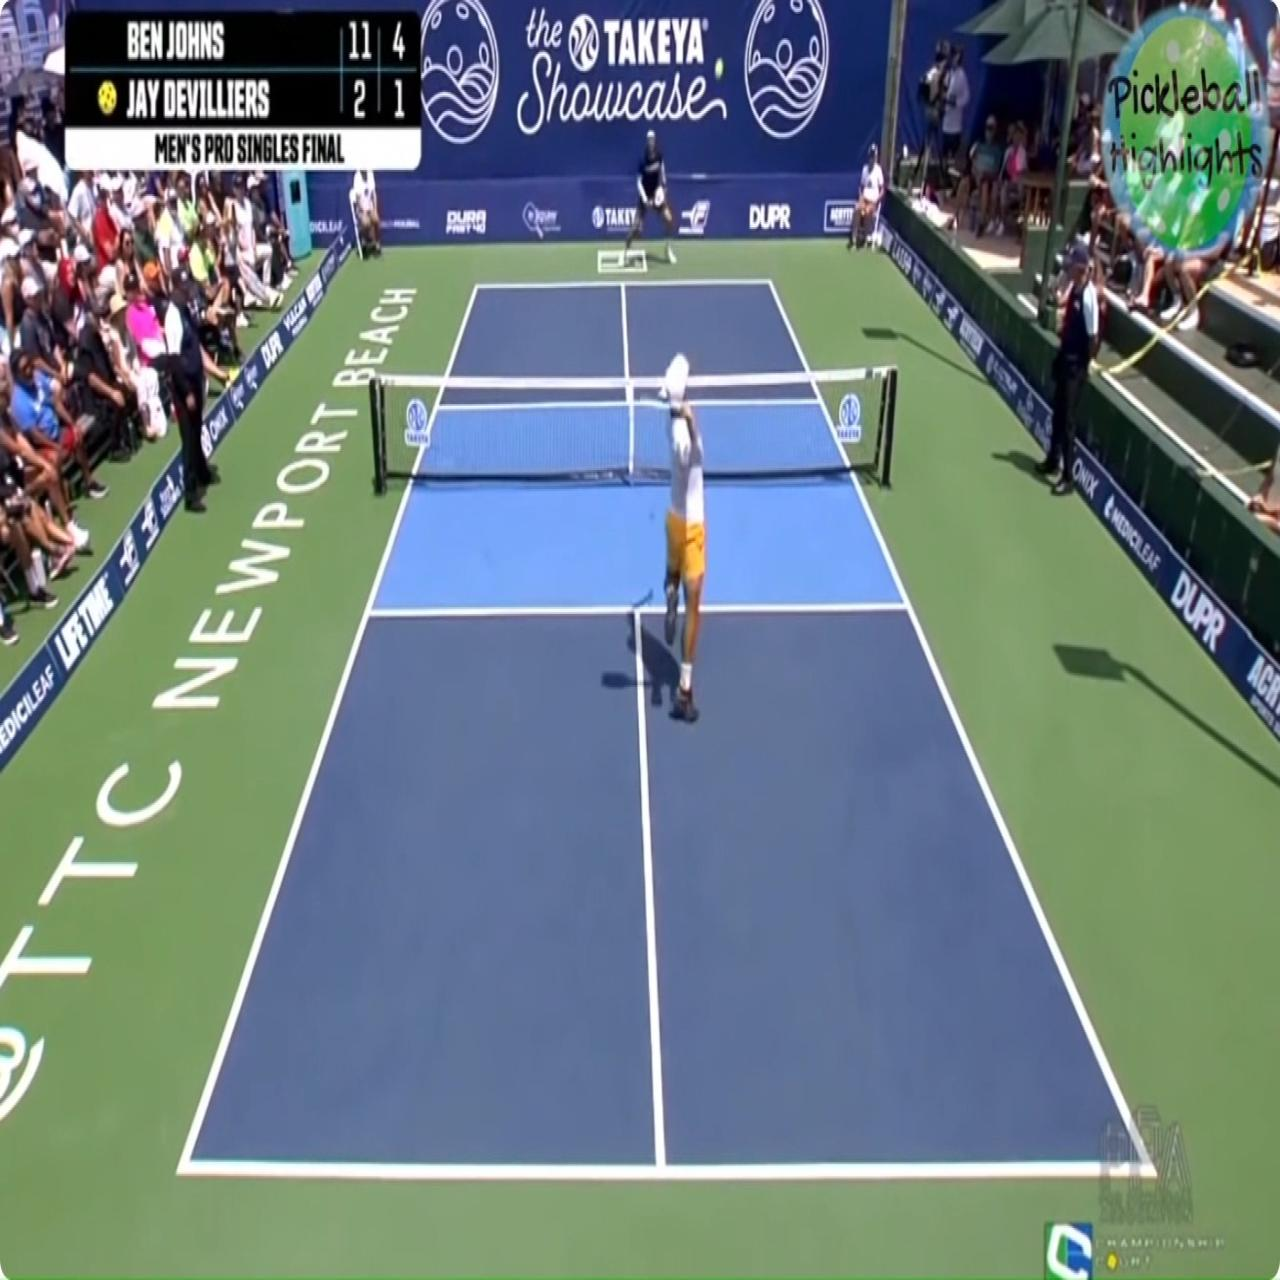pickleball: (714, 57, 724, 79)
